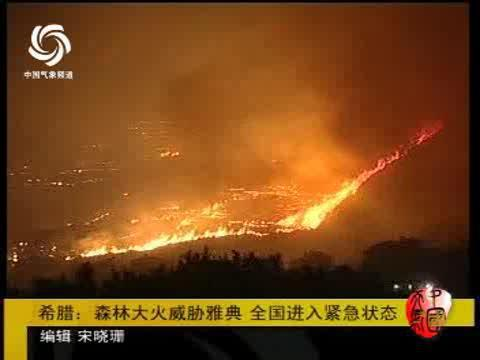fire: (82, 207, 264, 271), (281, 145, 408, 235)
